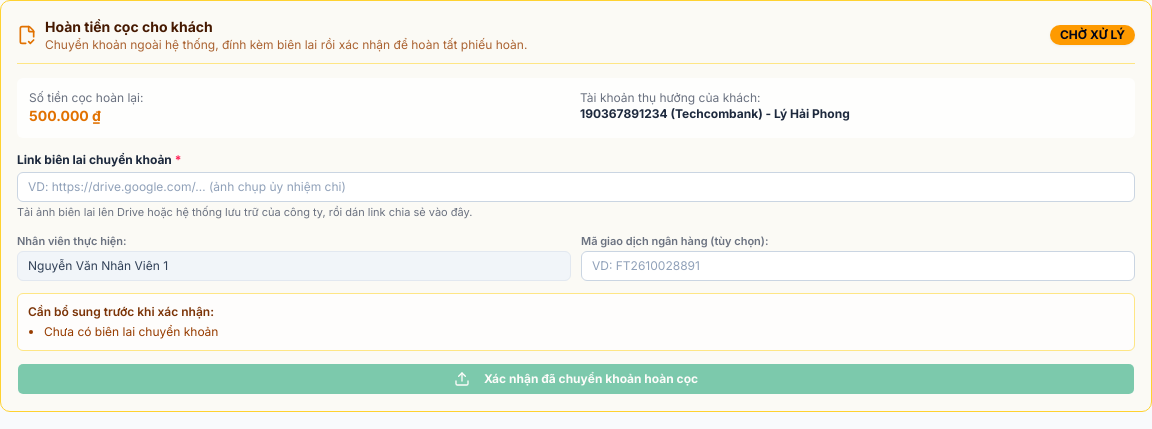
RefundConfirmForm khi chạy thật: biên lai là link (BE chỉ lưu 255 ký tự) › link sai định dạng → báo lỗi link và khóa nút
The width and height of the screenshot is (1152, 429).
Type "drive.google.com/abc" into the field labelled "Link biên lai chuyển khoản *".
click(576, 187); type("drive.google.com/abc")  # box top-left (17, 172), bottom-right (1135, 202)
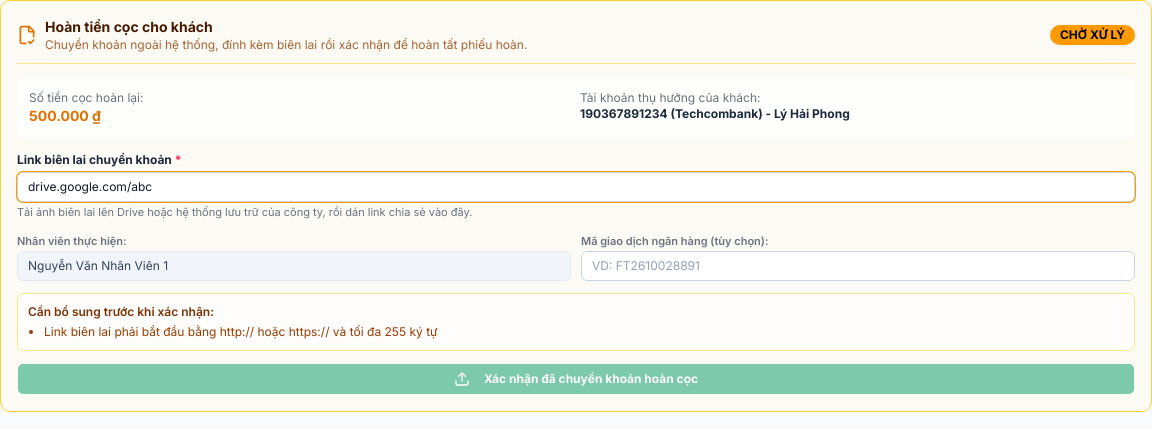
Expected: the button "Xác nhận đã chuyển khoản hoàn cọc" is disabled, top-left (17, 363), bottom-right (1135, 395)
Expected: the list item "Link biên lai phải bắt đầu bằng http" is shown, top-left (44, 324), bottom-right (438, 339)
